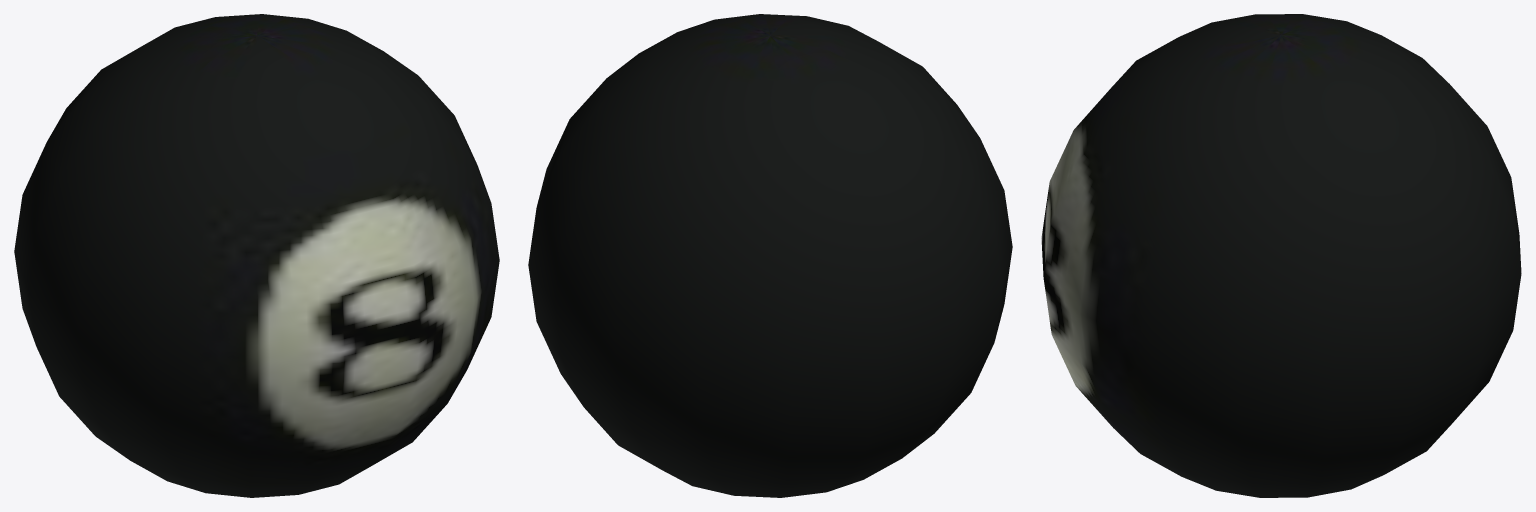
3 views of the same model, side by side, from view 1: azimuth 30°, elevation 25°; view 2: azimuth 150°, elevation 25°; view 3: azimuth 270°, elevation 25° (orthographic).
Visible parts, largest first — view 1: bi_a_08; view 2: bi_a_08; view 3: bi_a_08.
Part boxes in pixels (left/top/right/bottom): bi_a_08: left=14, top=14, right=499, bottom=497; bi_a_08: left=528, top=14, right=1012, bottom=497; bi_a_08: left=1041, top=14, right=1521, bottom=497.
Size of the model in its own units: 12.94 by 13.13 by 12.94.
